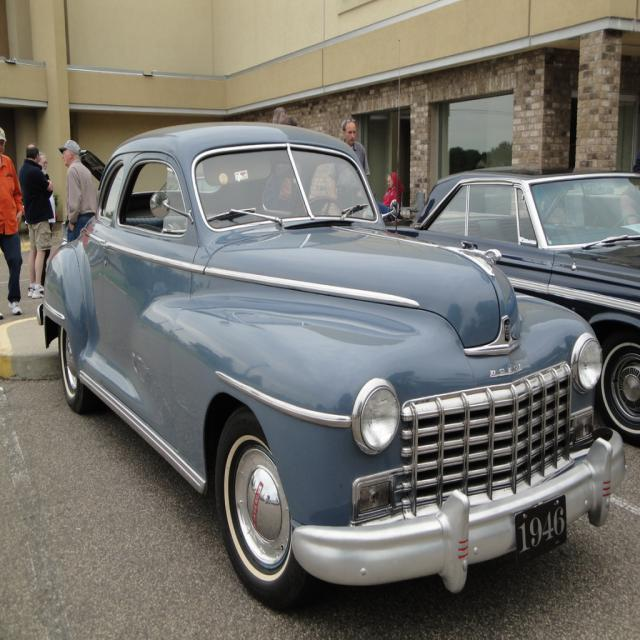car: (34, 113, 629, 615)
